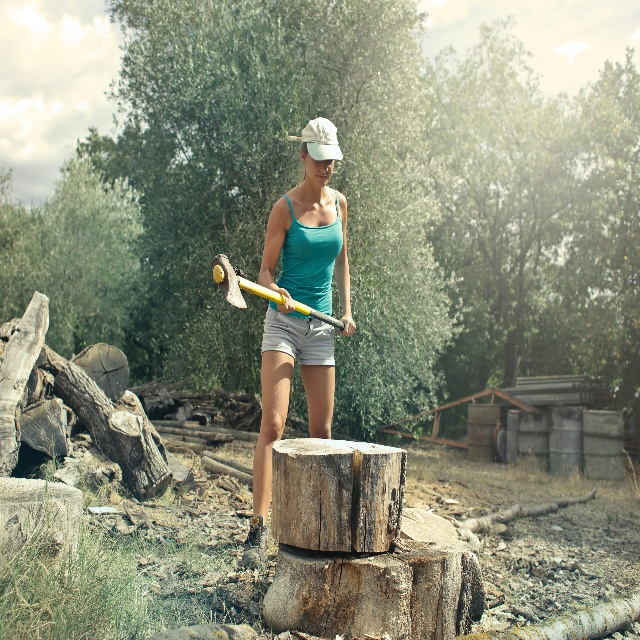Sin_guantes: (276, 287, 296, 315), (337, 313, 356, 337)
